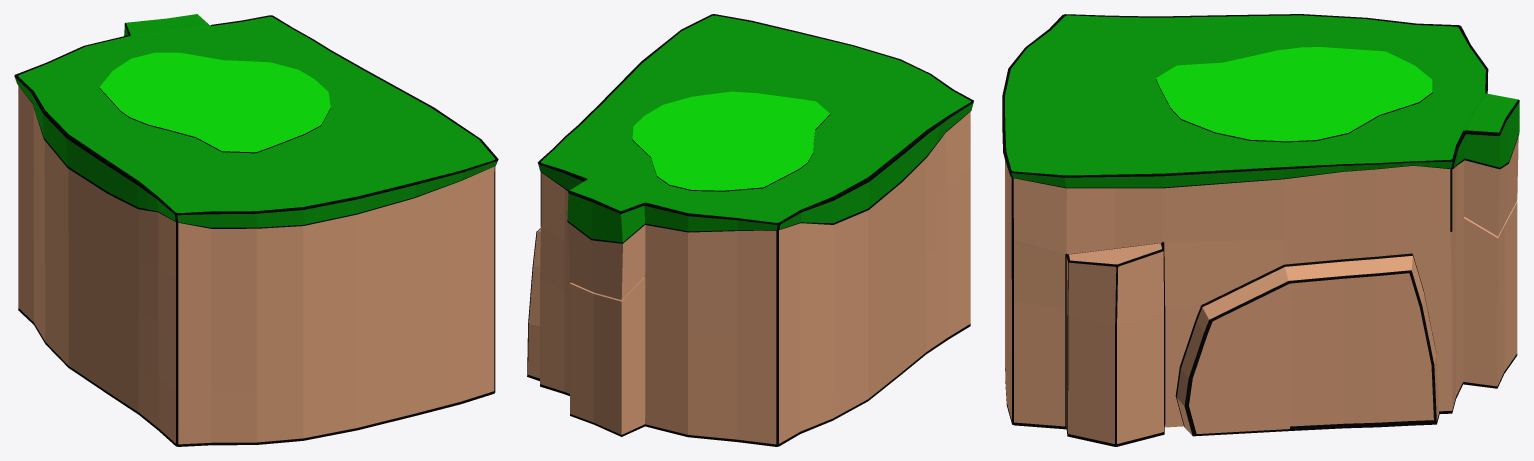
The model's file is CardboardPlatform12.fbx.
3 renders of one model, left to right at view 1: azimuth 30°, elevation 25°; view 2: azimuth 150°, elevation 25°; view 3: azimuth 270°, elevation 25°, orthographic. The views are drawn at different scales.
Visible parts, largest first — view 1: Cube.059; view 2: Cube.059; view 3: Cube.059.
Boxes of the visible parts, <box> form: Cube.059: <box>14,14,498,446</box>; Cube.059: <box>527,14,973,446</box>; Cube.059: <box>1002,14,1519,446</box>.
Bounding box in the file's own units: 876 × 589 × 1071.
